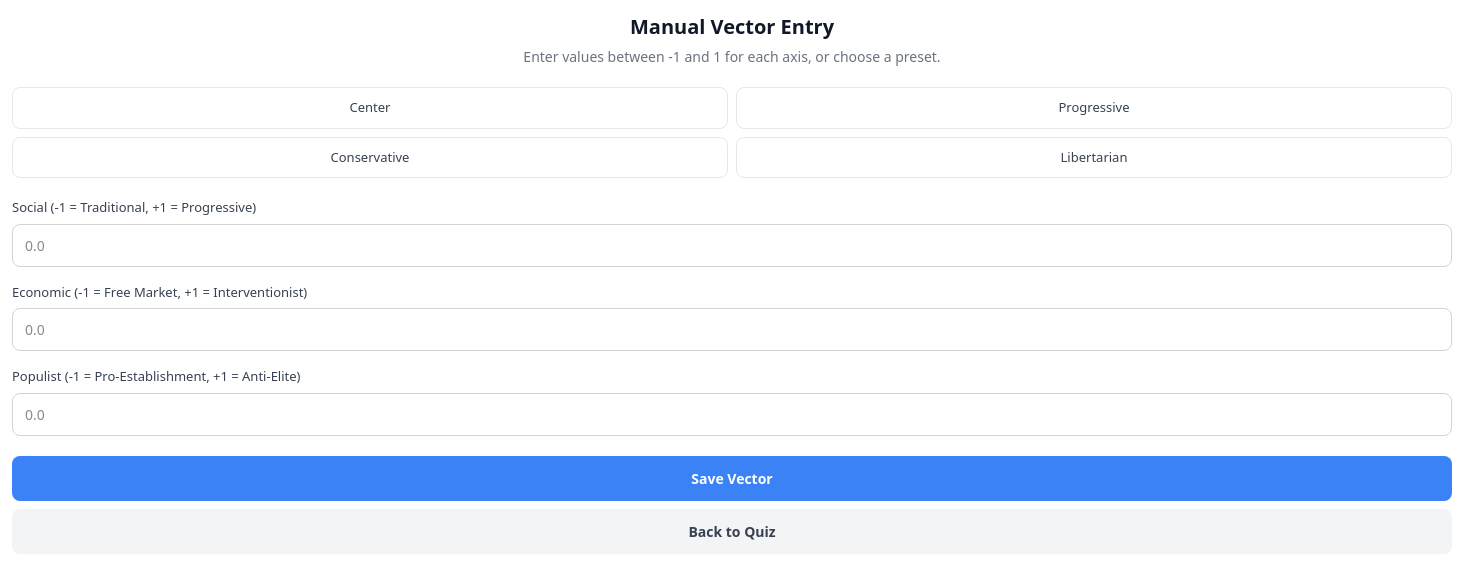
ManualEntry › fills inputs with center preset
Click the button with test id "preset-center".
click(370, 108)  # box [12,87,728,128]
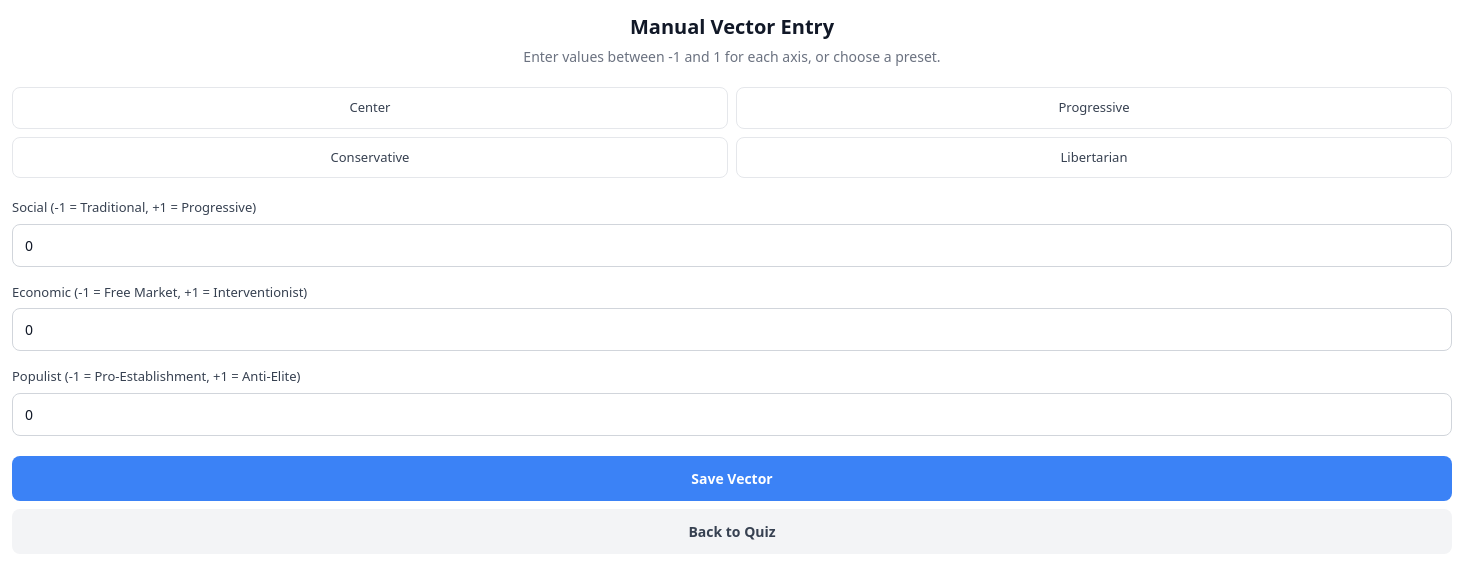
Result: the number field with test id "manual-social-input" holds "0" at [12,224,1452,266]
Result: the number field with test id "manual-economic-input" holds "0" at [12,308,1452,351]
Result: the number field with test id "manual-populist-input" holds "0" at [12,392,1452,436]
